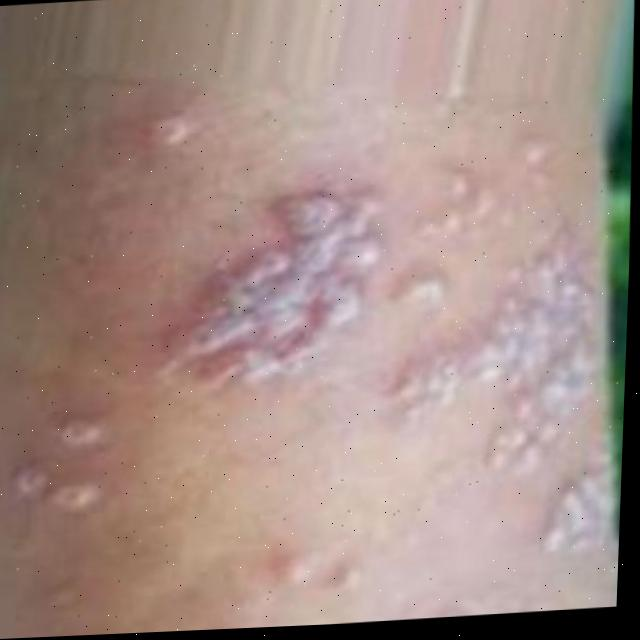Shingles: (174, 160, 626, 561)
